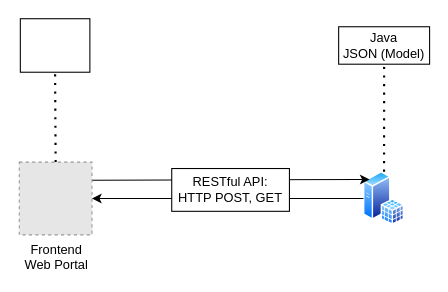
The diagram is 448 pixels wide and 292 high, and some of its shapes have lost their labels. Grey dashed boxes stand in for pictures. The shapes that lost their labels are listed below. From the top down, each one's box as (x1, y1, x2, y2) in pixels, then its label:
(19, 18, 90, 72): HTML CSS JavaScript
(363, 171, 404, 225): Backend Model Server
